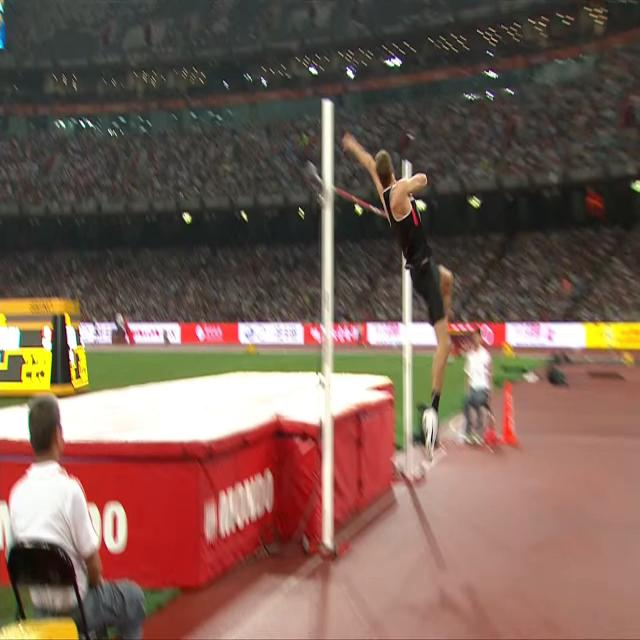jump: (342, 132, 452, 460)
